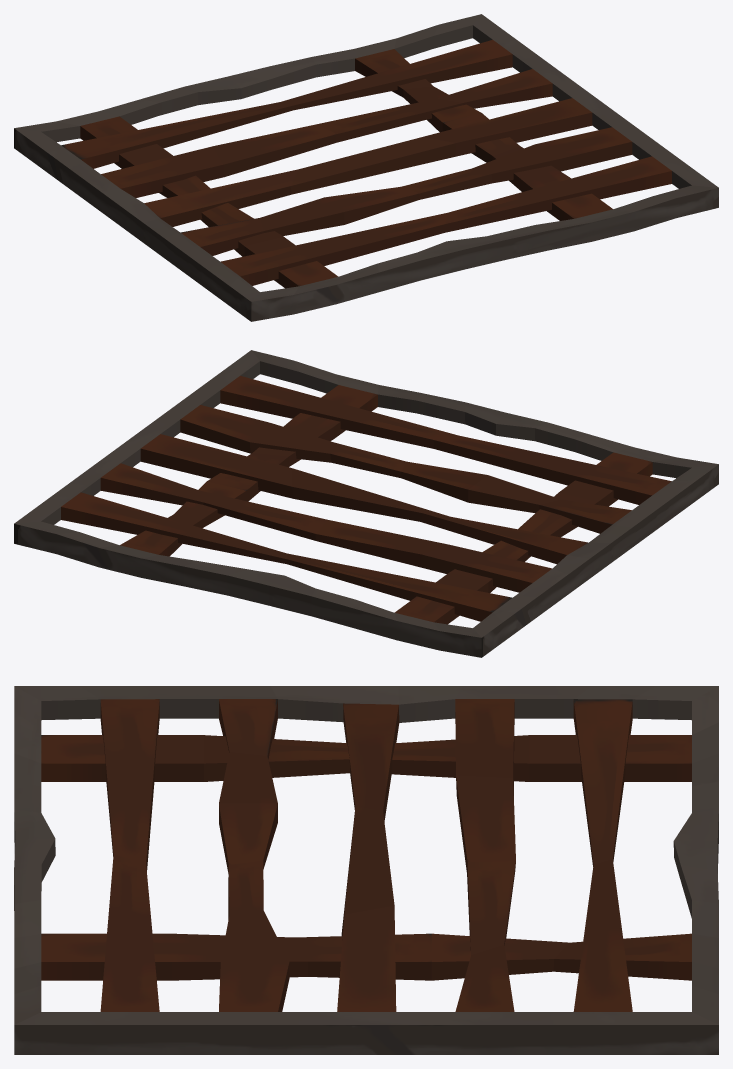
Rendered from metalFloorSingle.fbx.
The picture shows the model from 3 angles, top to bottom: view 1: azimuth 30°, elevation 25°; view 2: azimuth 150°, elevation 25°; view 3: azimuth 270°, elevation 25°; orthographic projection. The views are drawn at different scales.
Visible parts, largest first — view 1: Cube; view 2: Cube; view 3: Cube.
Boxes of the visible parts, x1,y1,x2,y2 form: Cube: (14,14,718,321); Cube: (14,350,718,657); Cube: (14,686,718,1054).
Bounding box in the file's own units: 790 × 39.16 × 694.
1 material, 1 textured.
